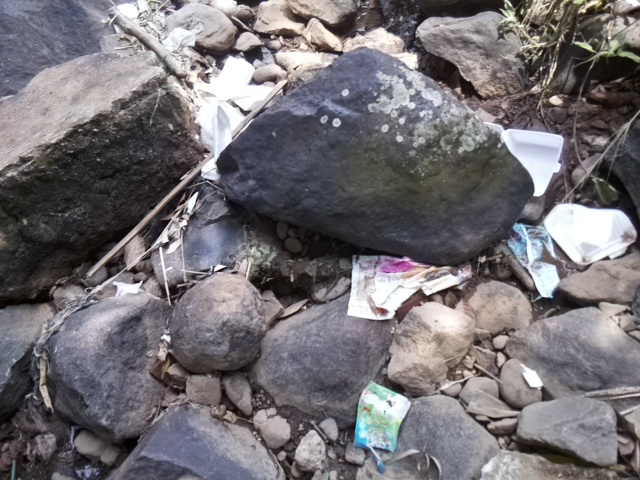Sampah_Plastik: (347, 250, 467, 321), (352, 380, 412, 466)
Sampah_Styrofoam: (197, 59, 265, 176), (544, 198, 639, 264), (498, 131, 568, 189)
